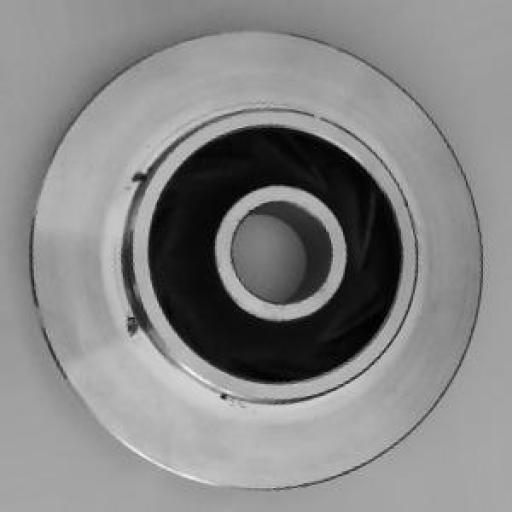defect: (118, 146, 248, 427)
